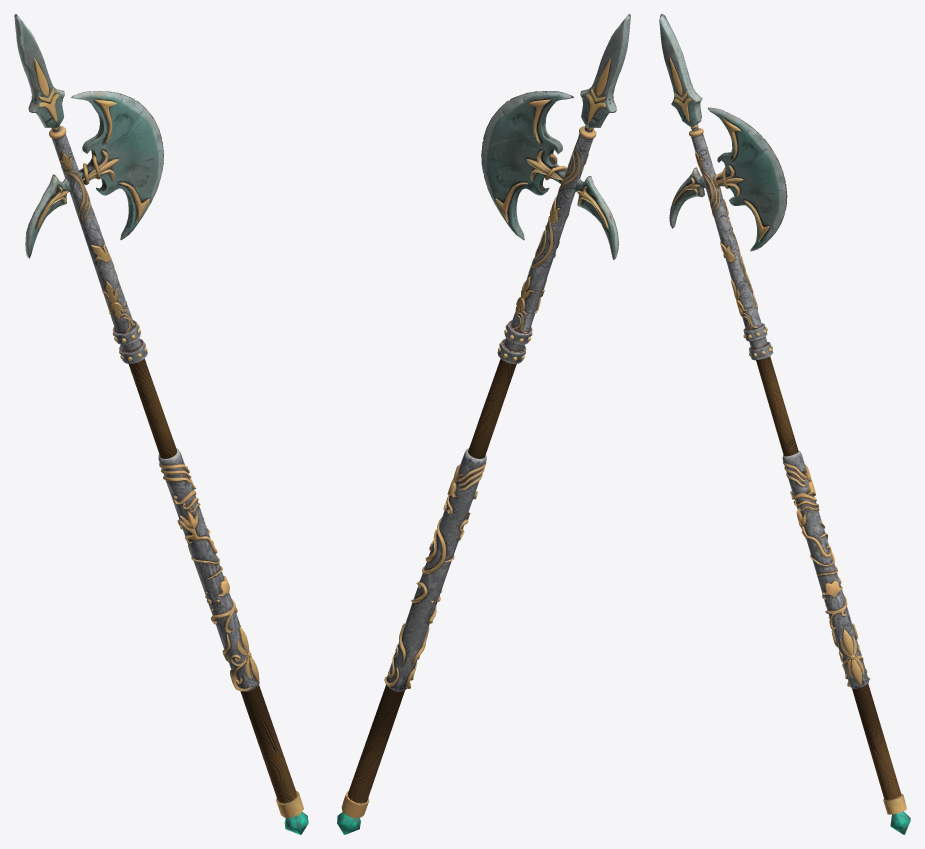
The model's file is hlbrd5.glb.
3 renders of one model, left to right at view 1: azimuth 30°, elevation 25°; view 2: azimuth 150°, elevation 25°; view 3: azimuth 330°, elevation 25°, orthographic. The views are drawn at different scales.
Visible parts, largest first — view 1: hlbrd1_rare_full; view 2: hlbrd1_rare_full; view 3: hlbrd1_rare_full.
Part boxes in pixels (x1,y1,x2,y2): hlbrd1_rare_full: (14, 14, 308, 834); hlbrd1_rare_full: (337, 14, 630, 834); hlbrd1_rare_full: (659, 14, 910, 834).
Size of the model in its own units: 24.03 by 70.13 by 2.16.
1 material, 1 textured.
